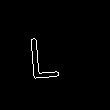L_N: (36, 27, 71, 81)
